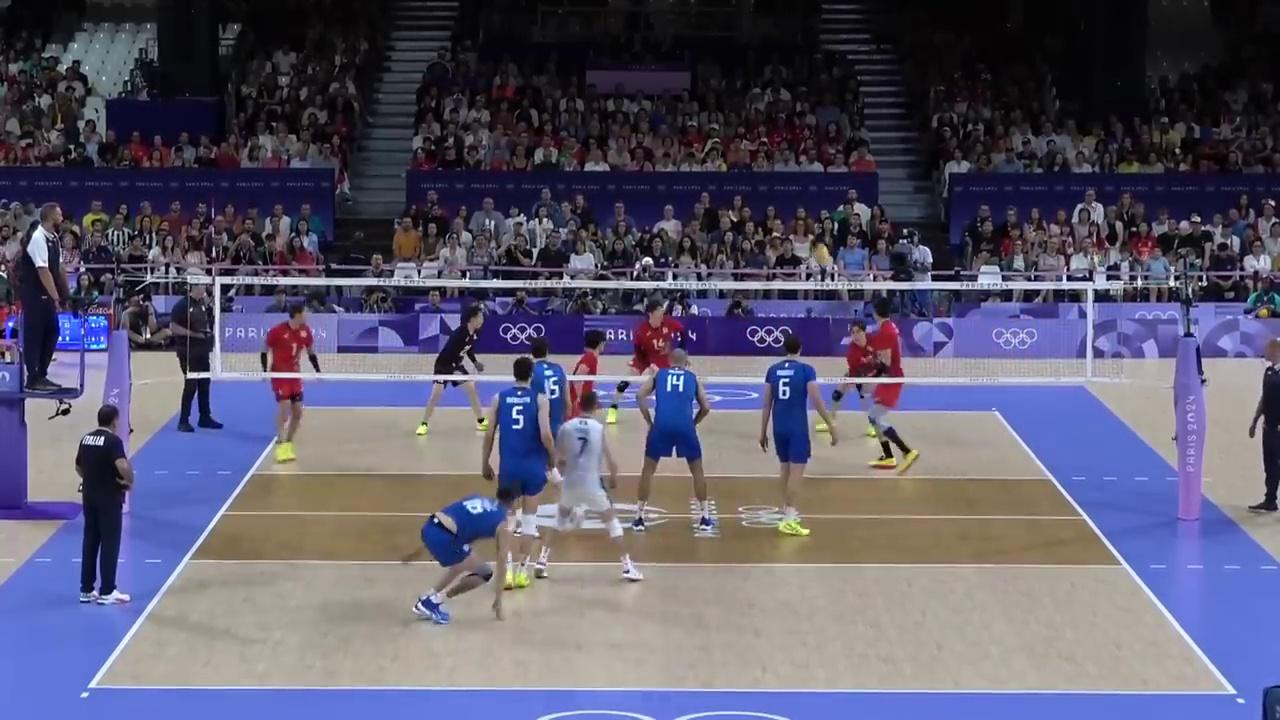ball: (816, 246, 828, 266)
